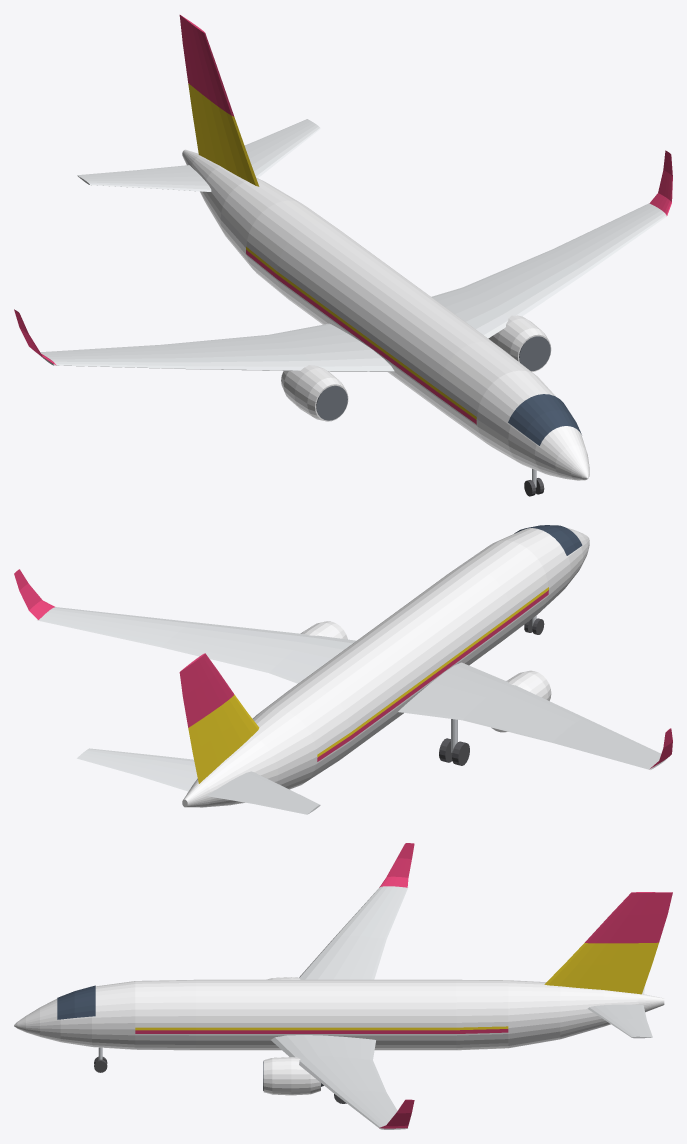
The model's file is avion.glb.
The picture shows the model from 3 angles, top to bottom: view 1: azimuth 30°, elevation 25°; view 2: azimuth 150°, elevation 25°; view 3: azimuth 270°, elevation 25°; orthographic projection. The views are drawn at different scales.
Parts seen in each view (by area): view 1: Fuselage_Main, Main_Wings, Horizontal_Stabilizers, Tail_Fin_Gold, Engine_Nacelles, Tail_Fin_Red, Cockpit_Windshield, Engine_Fan_Cores, Livery_Stripe_Red, Wing_Sharklets, Livery_Stripe_Gold; view 2: Fuselage_Main, Main_Wings, Horizontal_Stabilizers, Tail_Fin_Gold, Tail_Fin_Red, Engine_Nacelles, Livery_Stripe_Red, Wing_Sharklets, Livery_Stripe_Gold, LandingGear_Tires, Cockpit_Windshield; view 3: Fuselage_Main, Main_Wings, Tail_Fin_Gold, Tail_Fin_Red, Engine_Nacelles, Livery_Stripe_Red, Livery_Stripe_Gold, Horizontal_Stabilizers, Wing_Sharklets, Cockpit_Windshield.
Boxes of the visible parts, left/top/right/bottom form: Fuselage_Main: left=182, top=149, right=589, bottom=480; Main_Wings: left=40, top=203, right=668, bottom=371; Horizontal_Stabilizers: left=77, top=119, right=320, bottom=191; Tail_Fin_Gold: left=188, top=83, right=259, bottom=186; Engine_Nacelles: left=281, top=315, right=551, bottom=421; Tail_Fin_Red: left=179, top=15, right=234, bottom=116; Cockpit_Windshield: left=508, top=394, right=581, bottom=445; Engine_Fan_Cores: left=316, top=336, right=550, bottom=420; Livery_Stripe_Red: left=246, top=250, right=476, bottom=424; Wing_Sharklets: left=14, top=150, right=672, bottom=365; Livery_Stripe_Gold: left=246, top=246, right=476, bottom=419; Fuselage_Main: left=182, top=528, right=589, bottom=807; Main_Wings: left=37, top=607, right=667, bottom=769; Horizontal_Stabilizers: left=77, top=748, right=320, bottom=814; Tail_Fin_Gold: left=188, top=694, right=259, bottom=783; Tail_Fin_Red: left=179, top=653, right=234, bottom=727; Engine_Nacelles: left=300, top=621, right=551, bottom=732; Livery_Stripe_Red: left=317, top=590, right=548, bottom=761; Wing_Sharklets: left=14, top=569, right=672, bottom=768; Livery_Stripe_Gold: left=317, top=587, right=548, bottom=756; LandingGear_Tires: left=439, top=618, right=544, bottom=765; Cockpit_Windshield: left=514, top=525, right=582, bottom=555; Fuselage_Main: left=14, top=979, right=664, bottom=1050; Main_Wings: left=271, top=886, right=408, bottom=1129; Tail_Fin_Gold: left=544, top=942, right=658, bottom=994; Tail_Fin_Red: left=585, top=892, right=672, bottom=943; Engine_Nacelles: left=263, top=977, right=320, bottom=1095; Livery_Stripe_Red: left=135, top=1029, right=508, bottom=1033; Livery_Stripe_Gold: left=135, top=1026, right=508, bottom=1030; Horizontal_Stabilizers: left=587, top=985, right=652, bottom=1038; Wing_Sharklets: left=379, top=843, right=414, bottom=1128; Cockpit_Windshield: left=57, top=985, right=95, bottom=1019.
Size of the model in its own units: 35 by 11.45 by 38.
